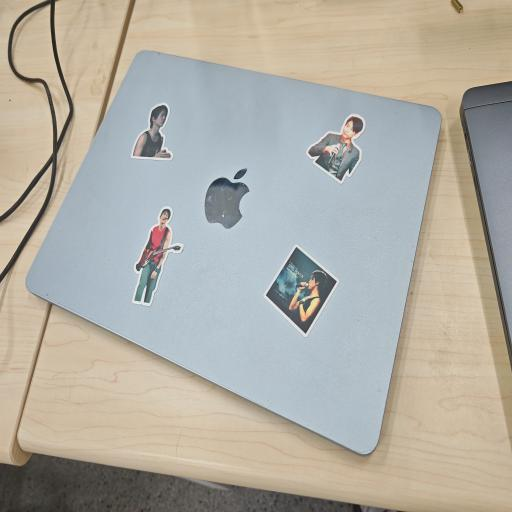laptop: (26, 52, 440, 454)
